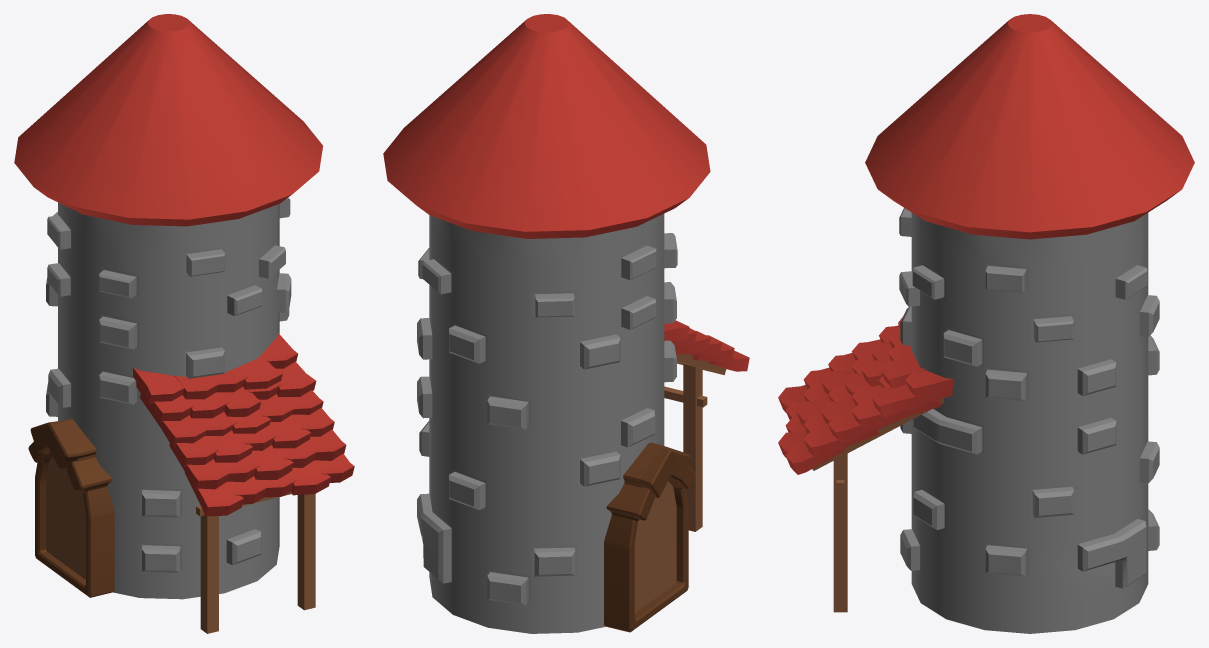
File: upgrade2.obj
3 views of the same model, side by side, from view 1: azimuth 30°, elevation 25°; view 2: azimuth 150°, elevation 25°; view 3: azimuth 270°, elevation 25° (orthographic). The views are drawn at different scales.
Visible parts, largest first — view 1: Circle.004; view 2: Circle.004; view 3: Circle.004.
Part boxes in pixels (x1,y1,x2,y2): Circle.004: (14, 14, 354, 633); Circle.004: (383, 14, 749, 633); Circle.004: (778, 14, 1194, 633).
Size of the model in its own units: 2.79 by 5.23 by 3.52.
